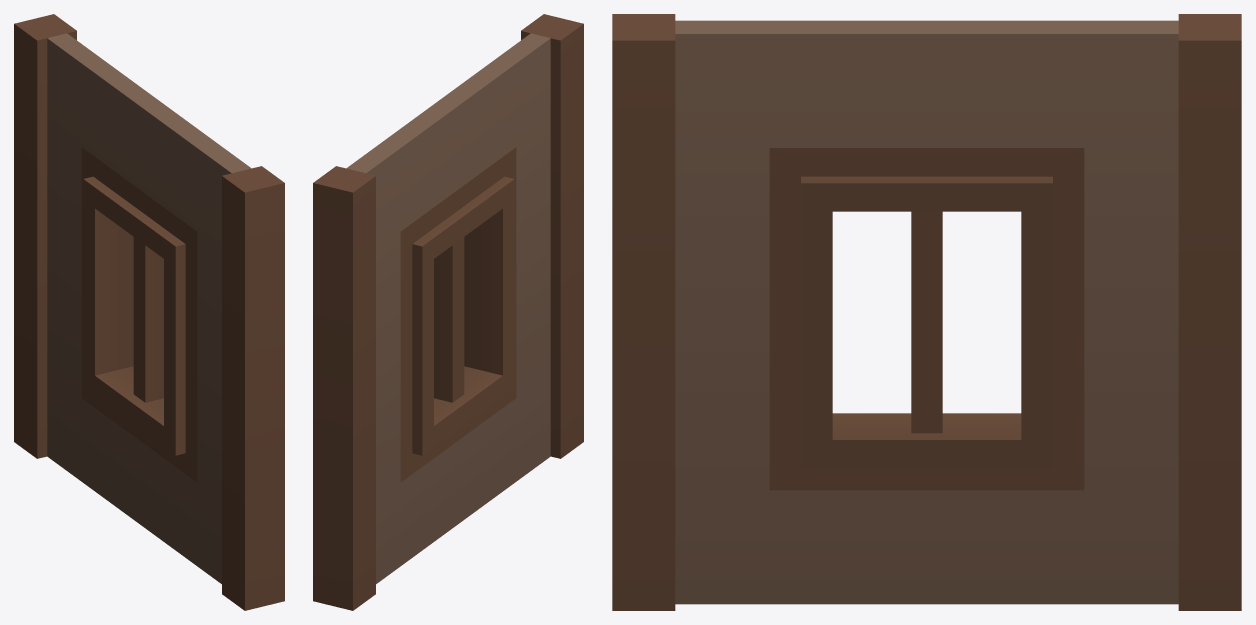
File: wall-wood-window-shutters.glb
The picture shows the model from 3 angles, left to right: view 1: azimuth 30°, elevation 25°; view 2: azimuth 150°, elevation 25°; view 3: azimuth 270°, elevation 25°; orthographic projection. The views are drawn at different scales.
Visible parts, largest first — view 1: wall-wood-window-shutters; view 2: wall-wood-window-shutters; view 3: wall-wood-window-shutters.
Boxes of the visible parts, left/top/right/bottom form: wall-wood-window-shutters: left=14, top=14, right=284, bottom=610; wall-wood-window-shutters: left=313, top=14, right=583, bottom=610; wall-wood-window-shutters: left=612, top=14, right=1241, bottom=610.
Bounding box in the file's own units: 0.1 × 1 × 1.
Materials: 1 (1 with a texture image).
